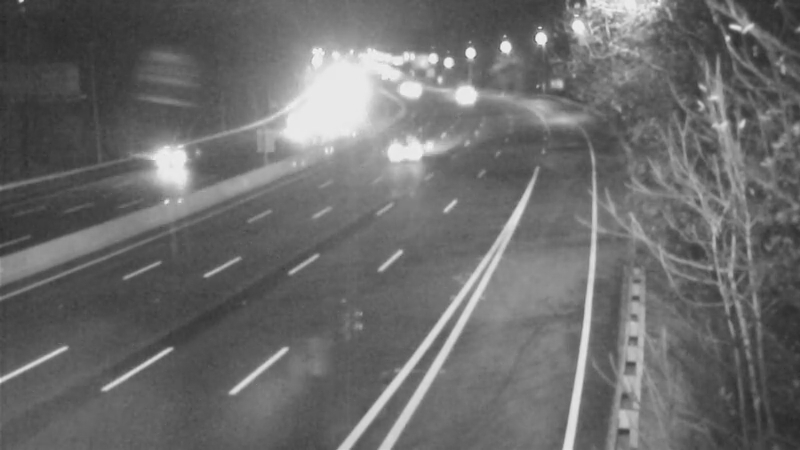vehicle: (365, 112, 445, 192), (130, 116, 210, 196), (383, 61, 433, 111), (389, 64, 439, 114), (431, 63, 481, 113), (444, 73, 494, 123)
